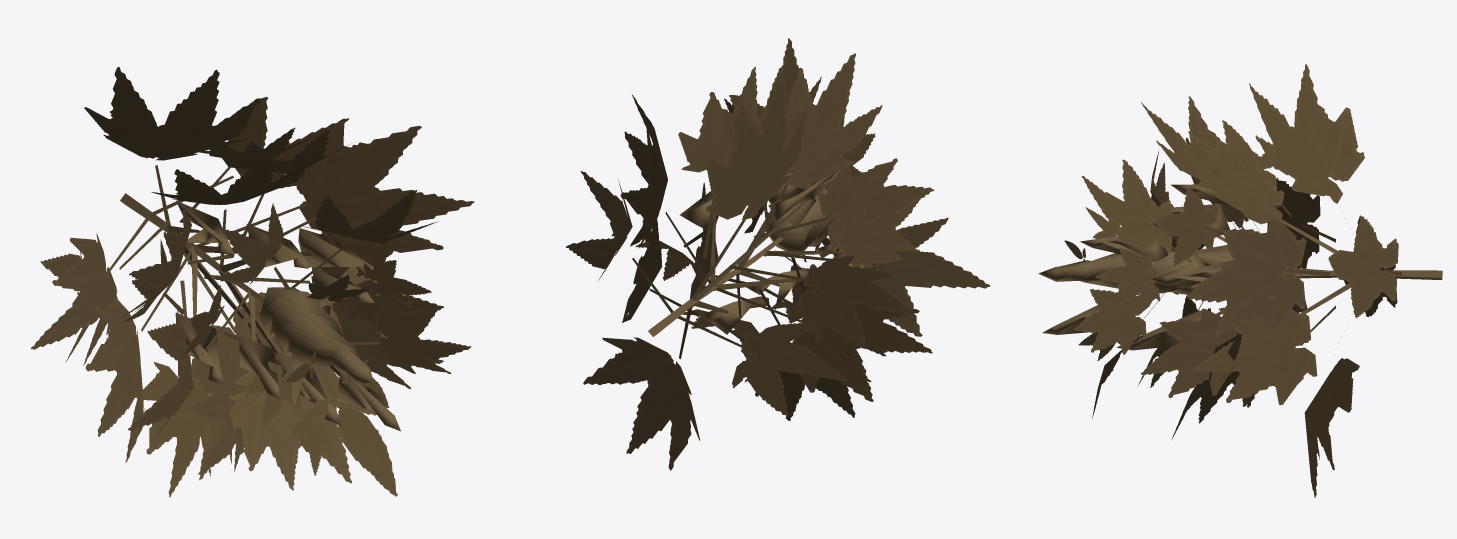
The model's file is p_kush_flowering_c3_cards.obj.
3 renders of one model, left to right at view 1: azimuth 30°, elevation 25°; view 2: azimuth 150°, elevation 25°; view 3: azimuth 270°, elevation 25°, orthographic. The views are drawn at different scales.
Size of the model in its own units: 1.38 by 1.63 by 1.33.
1 material, 1 textured.
